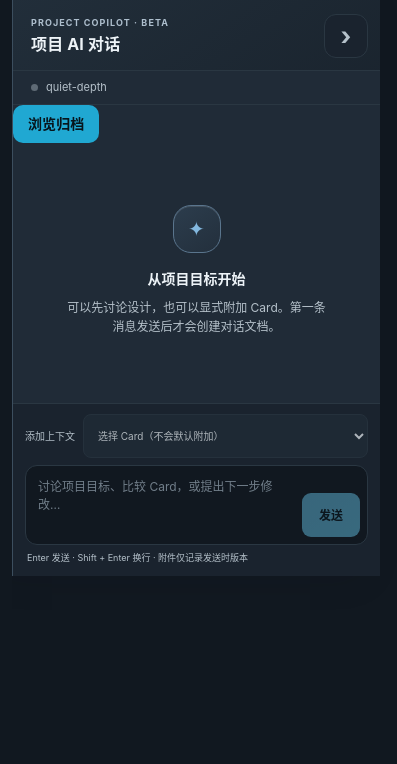
Test: ProjectConversationDrawer › 运行中可取消，并保留取消状态
Check: the text "从项目目标开始" is shown, box [148, 269, 246, 290]
Type "开始设计" into the text box named "发送给项目 AI 的消息" at (164, 505), box [33, 473, 294, 537]
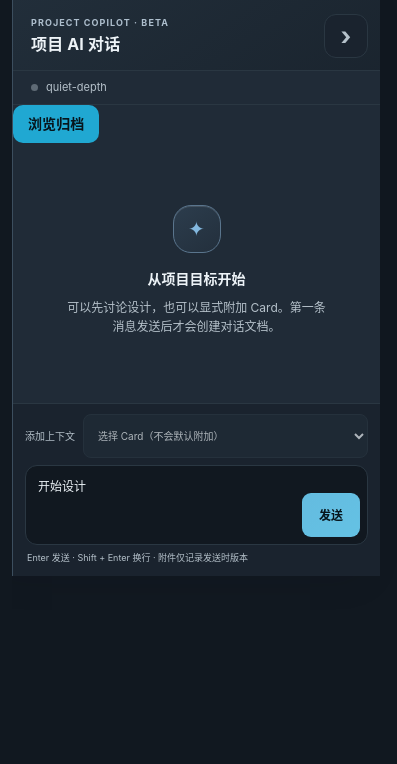
Click the button "发送" at (331, 515), box [302, 493, 360, 537]
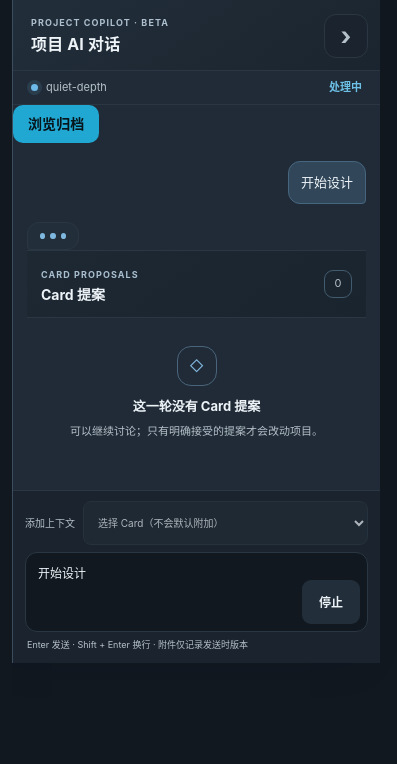
Click the button "停止" at (331, 602), box [302, 580, 360, 624]
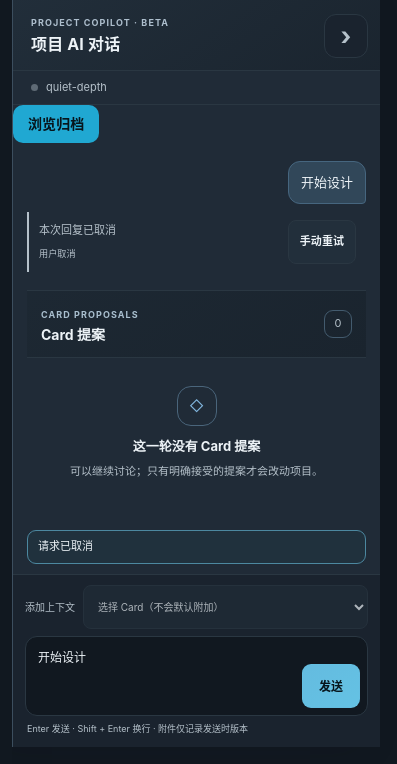
Check: the text "本次回复已取消" is shown, box [39, 223, 116, 237]
Check: the button "手动重试" is shown, box [288, 220, 356, 264]
